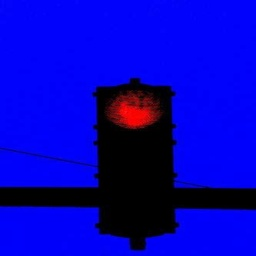traffic light: (92, 78, 179, 252)
